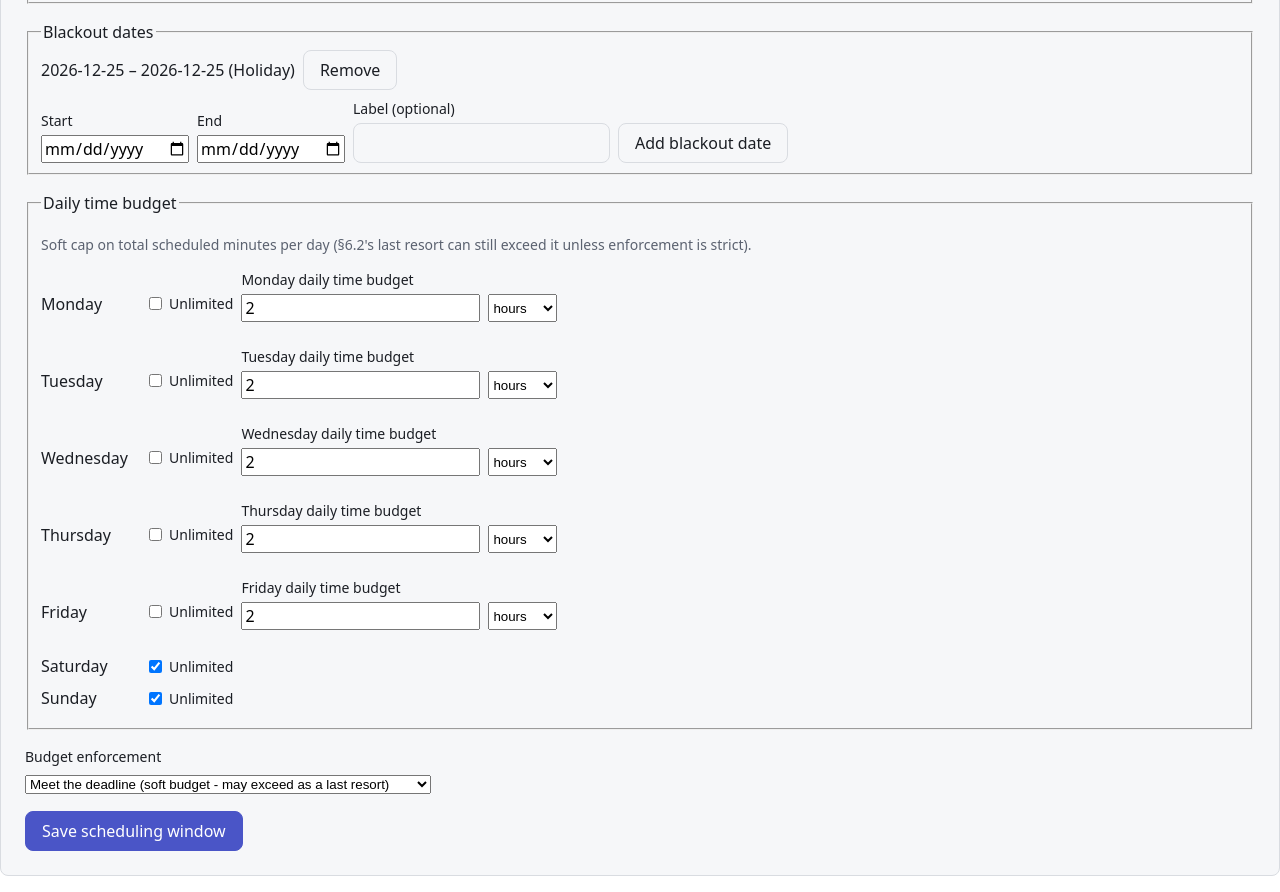
SchedulingWindowSection › shows an error banner when the save fails
(page scrolled)
Click the button "Save scheduling window". click: (134, 831)
box: [25,811,243,851]
(page scrolled)
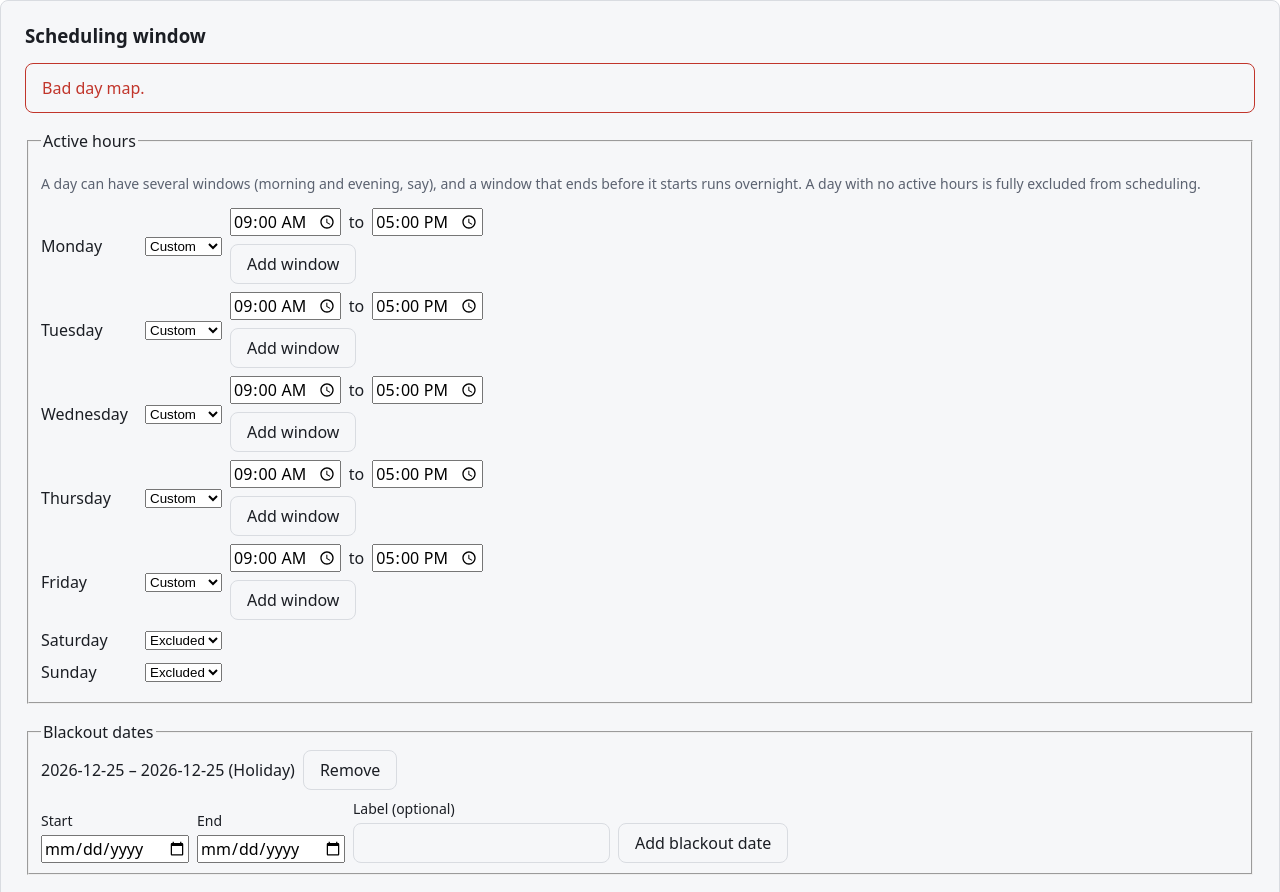
Now the text "Bad day map." is shown, box [25,64,1255,114]
